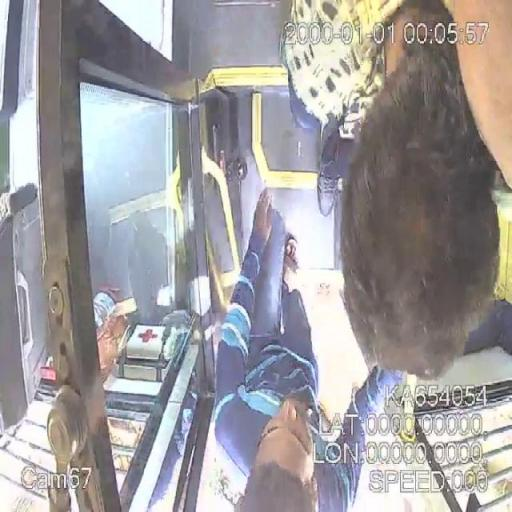persona: (283, 0, 512, 367), (212, 186, 328, 511)
